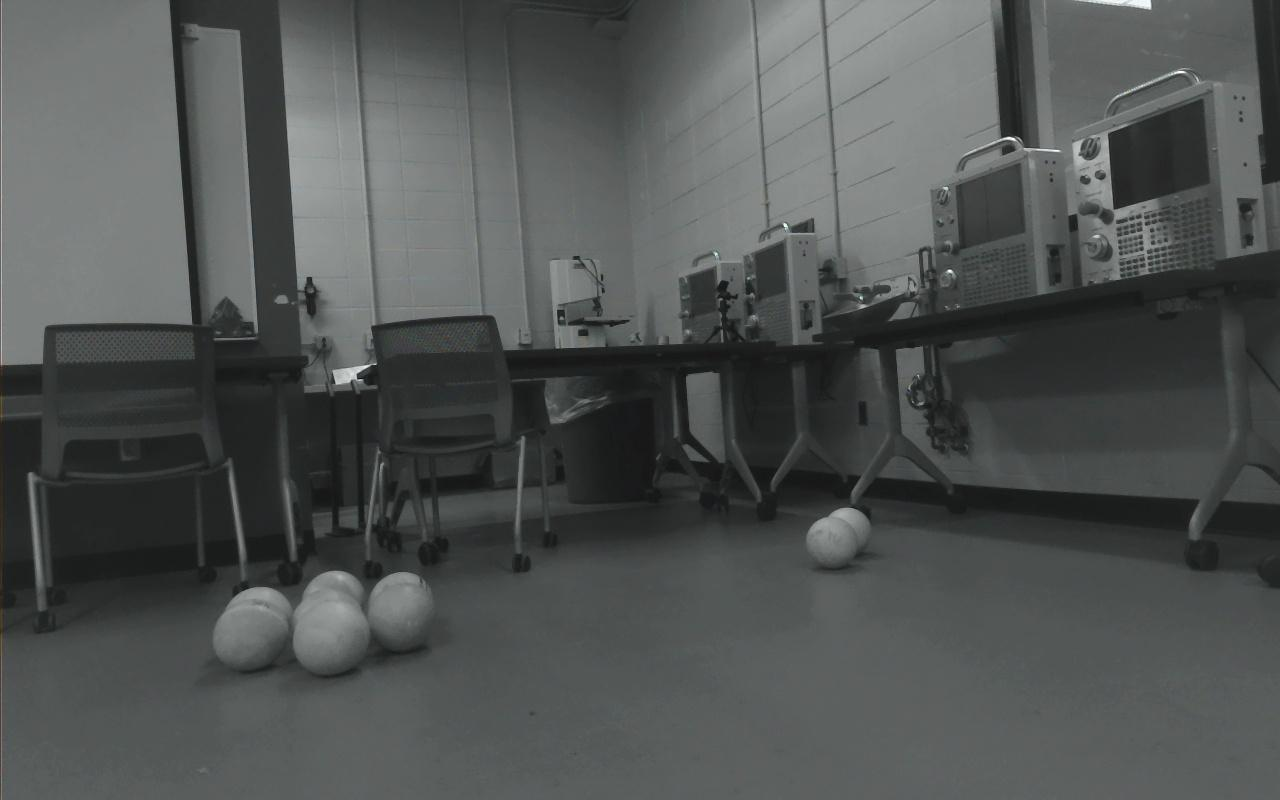Fuel: (293, 599, 370, 675), (212, 601, 289, 672), (223, 587, 294, 658), (367, 580, 435, 652), (291, 586, 362, 652), (302, 570, 367, 636), (367, 571, 433, 636), (805, 517, 858, 568), (827, 507, 872, 555)
